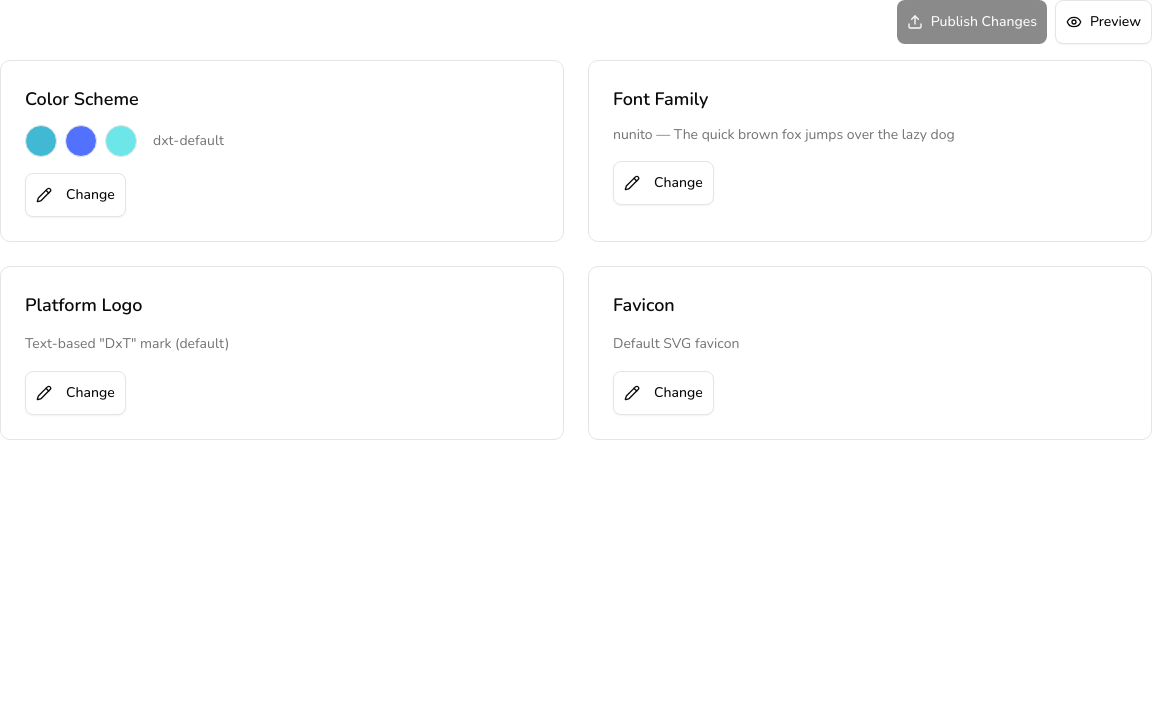
Scenario: BrandingManager › opens font selector on Change click
Click the button with test id "edit-font-button".
click(663, 183)  # box x1=613 y1=161 x2=714 y2=205
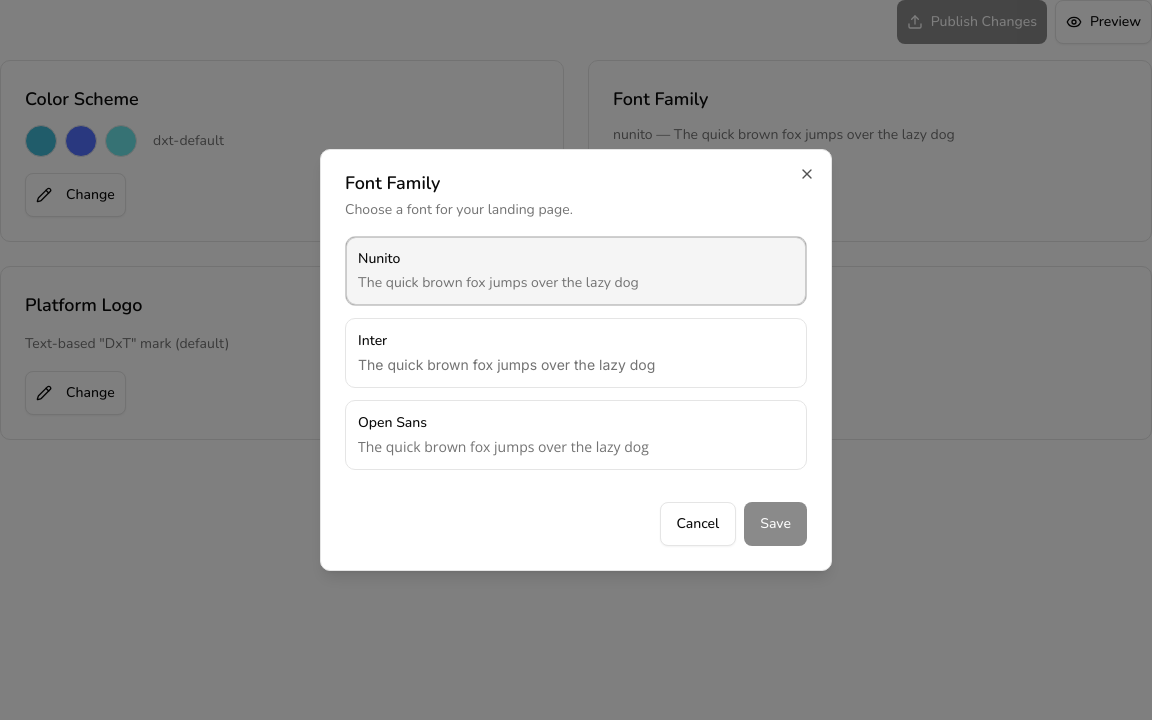
Result: the dialog with test id "font-selector" is shown at x1=320 y1=149 x2=832 y2=571
